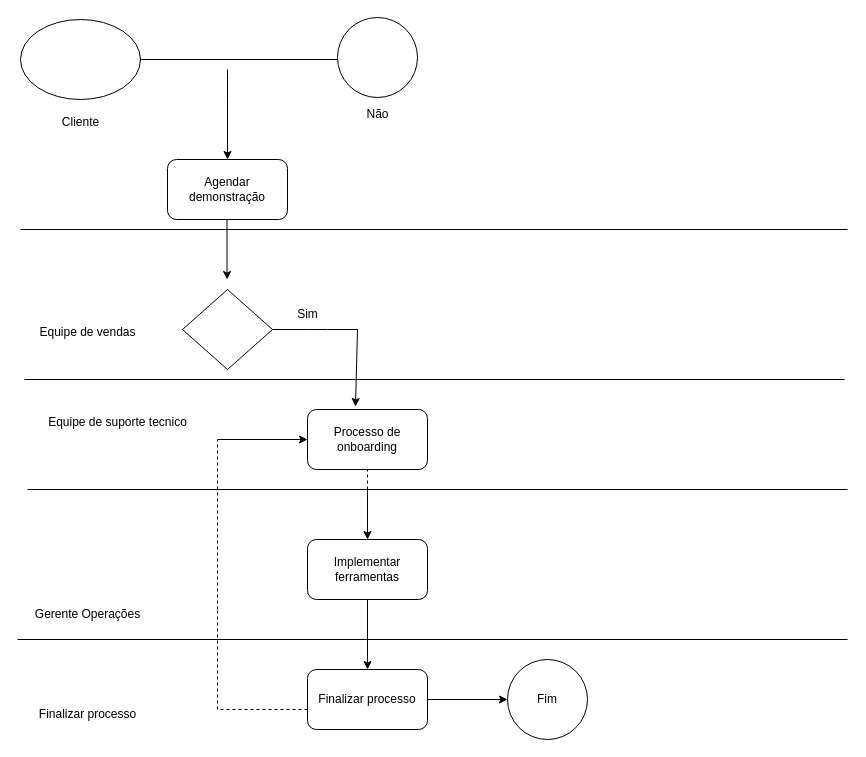
Image size: 866x757. Some labels were removed from this diagram. Here are the shapes that lost their labels. From the top down, the centre of each, then its label:
At (x=80, y=59): "Receber solicitação de demonstração".
At (x=227, y=329): "Interesse do cliente".
